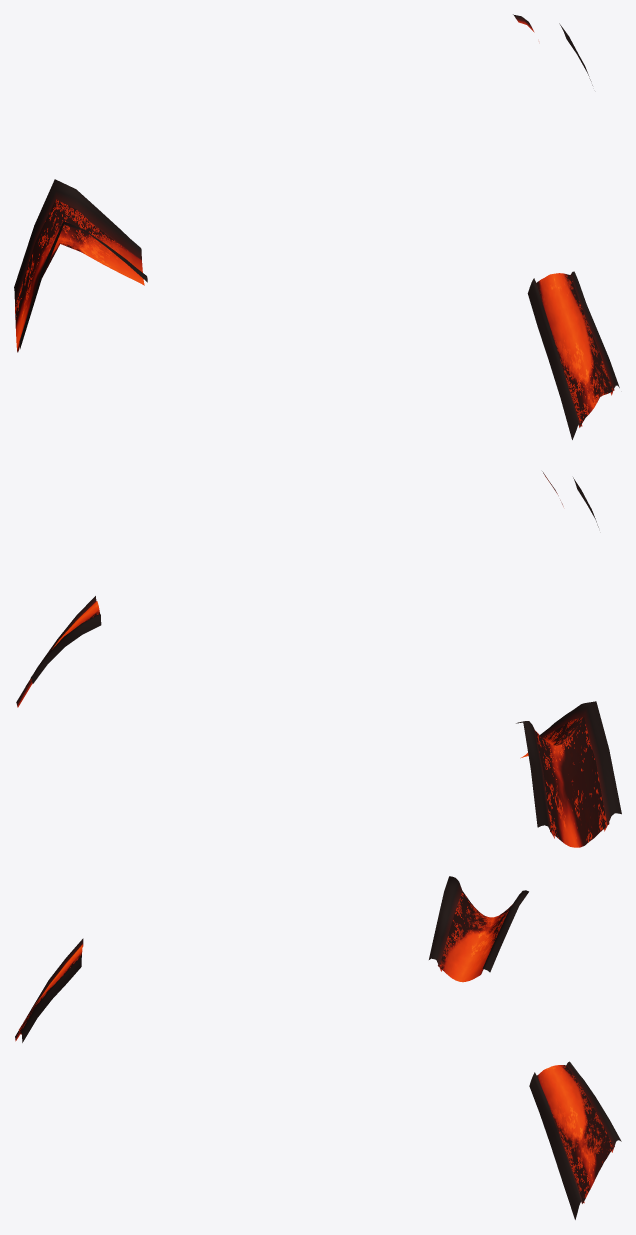
File: lava_seg_1.glb
3 renders of one model, top to bottom at view 1: azimuth 30°, elevation 25°; view 2: azimuth 150°, elevation 25°; view 3: azimuth 270°, elevation 25°, orthographic. The views are drawn at different scales.
Visible parts, largest first — view 1: seg; view 2: seg; view 3: seg.
Part boxes in pixels (bbox=[...]): seg: bbox=[14, 14, 619, 439]; seg: bbox=[16, 471, 621, 847]; seg: bbox=[15, 876, 621, 1219].
Size of the model in its own units: 44.08 by 12.45 by 42.56.
